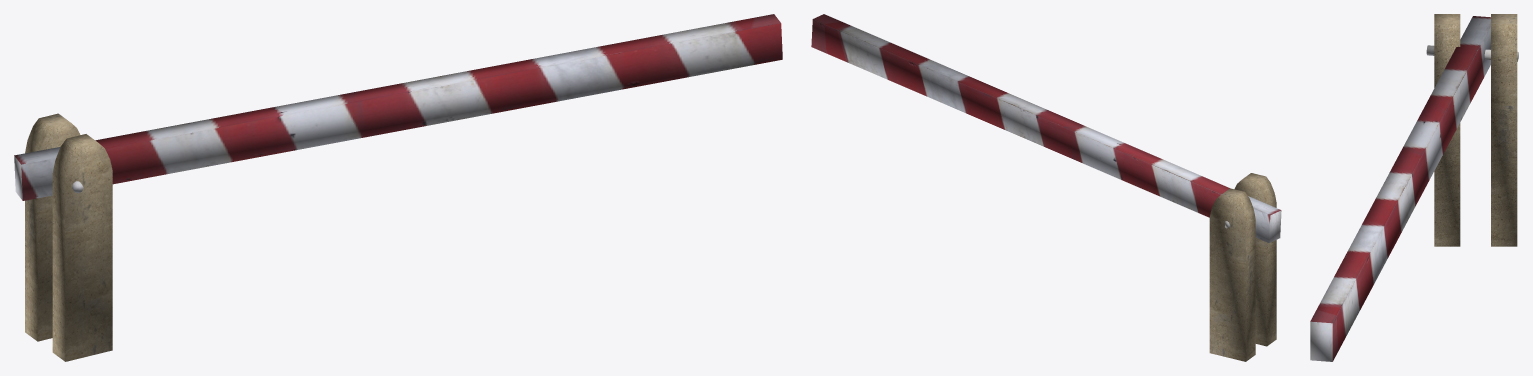
File: toleGateWithAnimation2.fbx
The picture shows the model from 3 angles, left to right: view 1: azimuth 30°, elevation 25°; view 2: azimuth 150°, elevation 25°; view 3: azimuth 270°, elevation 25°; orthographic projection. The views are drawn at different scales.
Visible parts, largest first — view 1: Cylinder, Cube.001; view 2: Cylinder, Cube.001; view 3: Cylinder, Cube.001.
Part boxes in pixels (x1=…): Cylinder: x1=14, y1=14, x2=782, y2=200; Cube.001: x1=25, y1=113, x2=112, y2=361; Cylinder: x1=811, y1=14, x2=1281, y2=242; Cube.001: x1=1209, y1=173, x2=1276, y2=361; Cylinder: x1=1310, y1=16, x2=1518, y2=361; Cube.001: x1=1434, y1=14, x2=1517, y2=246.
Size of the model in its own units: 298 by 92.94 by 76.74.
